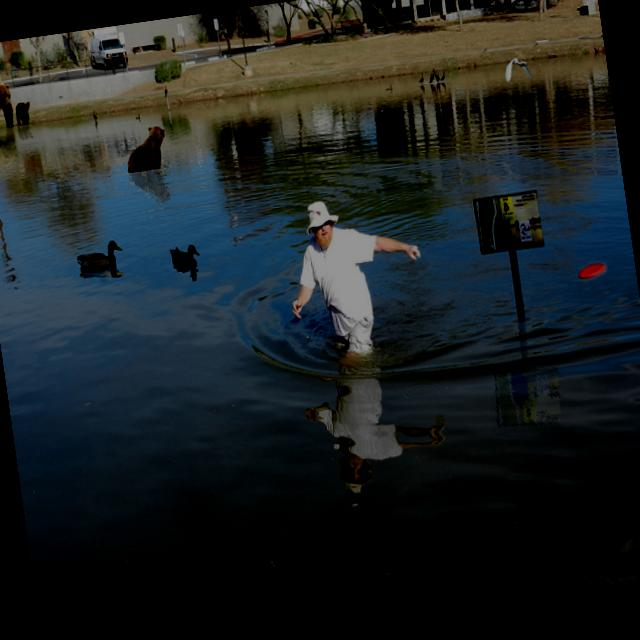Vehicle: (86, 26, 130, 74)
